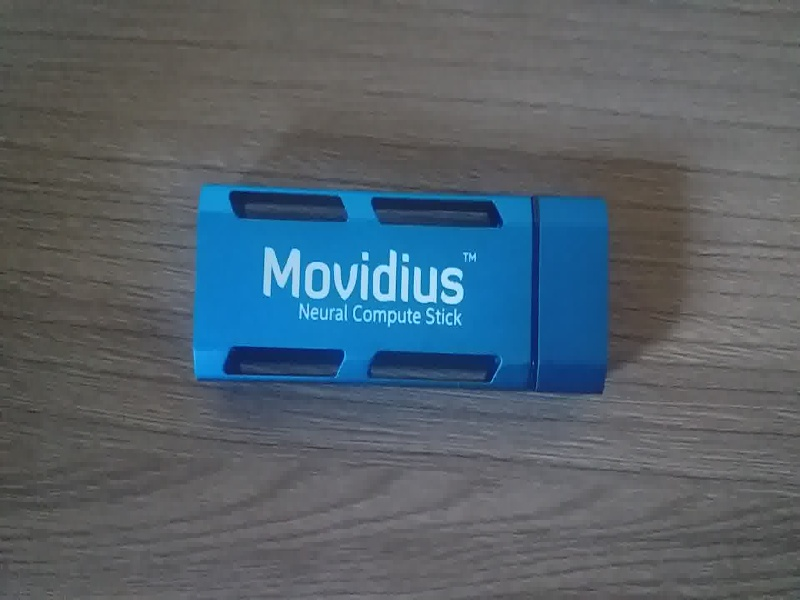movidius: (182, 170, 620, 410)
